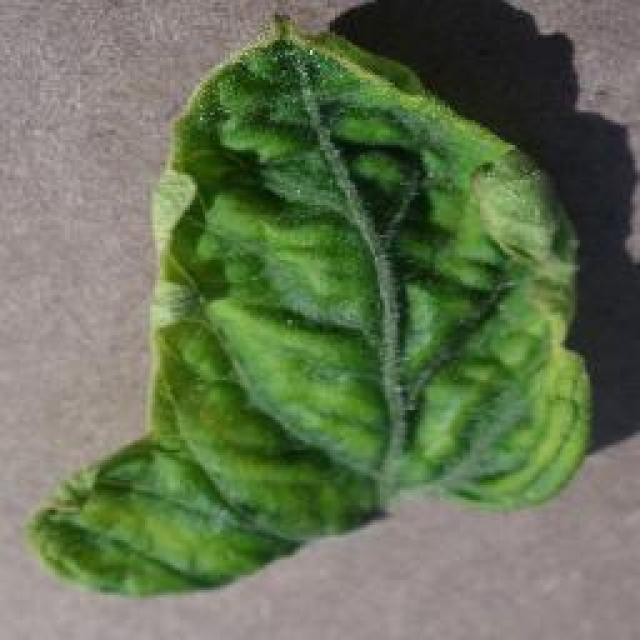Tomato yellow virus leaf: (28, 25, 598, 595)
